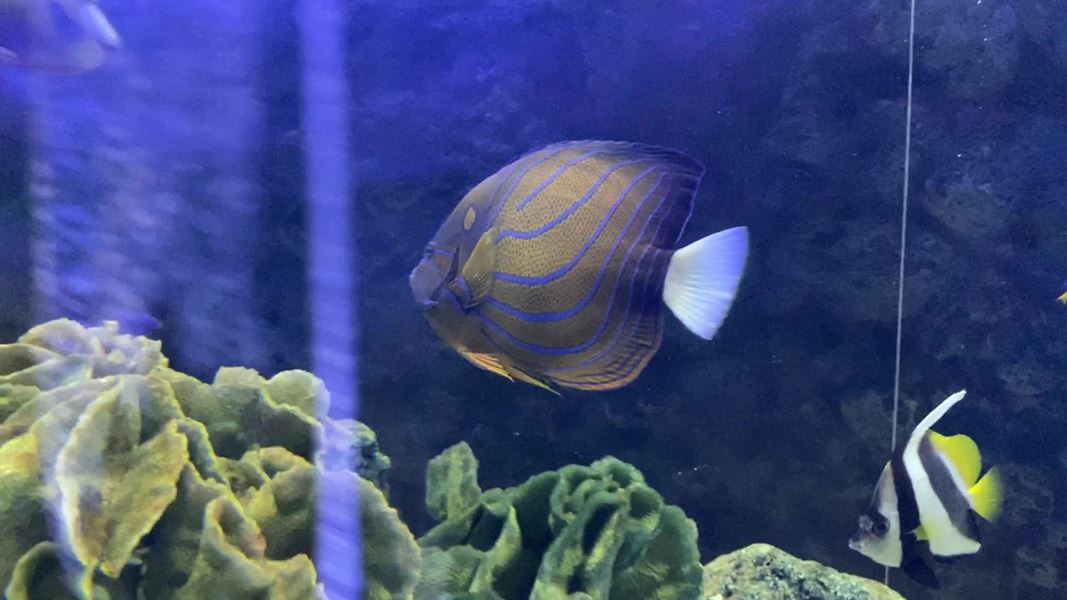Blue ring angelfish: (376, 130, 785, 406)
